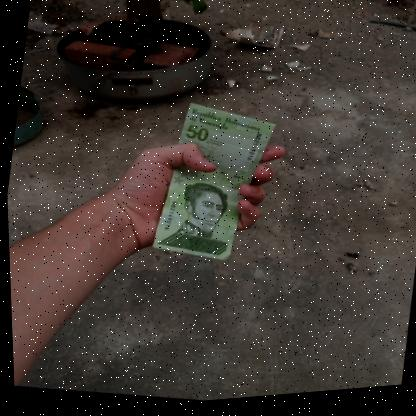fifty-front-vef: (143, 96, 281, 273)
